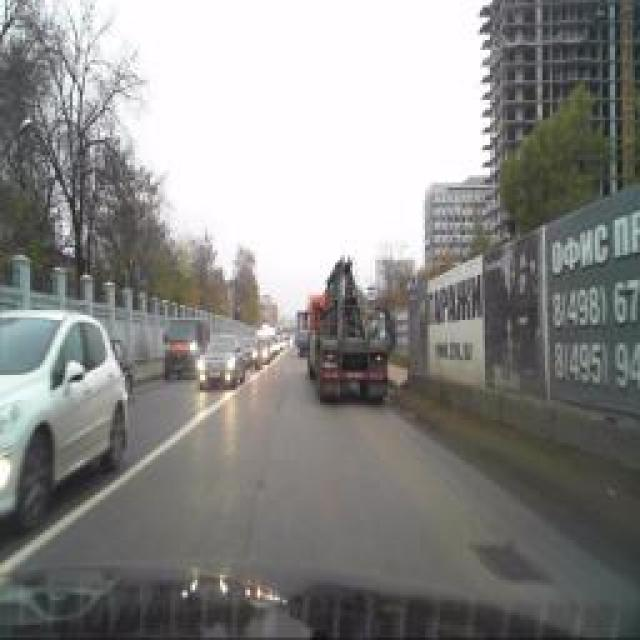sign: (405, 275, 415, 293), (139, 270, 149, 288)
